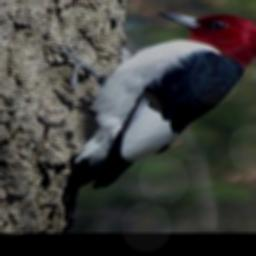Woodpecker: (40, 9, 256, 194)
